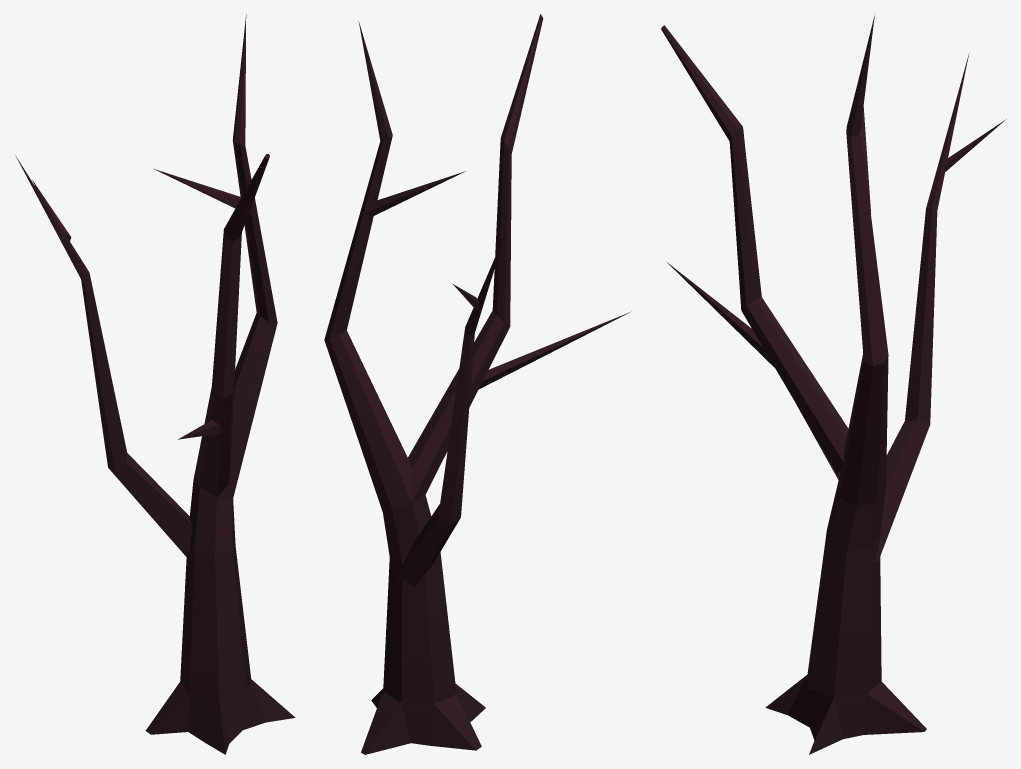
File: tree_old.fbx
The picture shows the model from 3 angles, left to right: view 1: azimuth 30°, elevation 25°; view 2: azimuth 150°, elevation 25°; view 3: azimuth 270°, elevation 25°; orthographic projection. The views are drawn at different scales.
Visible parts, largest first — view 1: tree_old; view 2: tree_old; view 3: tree_old.
Boxes of the visible parts, box(x1,y1,x2,y2) form: tree_old: box(15, 14, 295, 754); tree_old: box(324, 14, 631, 754); tree_old: box(661, 14, 1006, 754).
Size of the model in its own units: 82.87 by 249 by 107.
